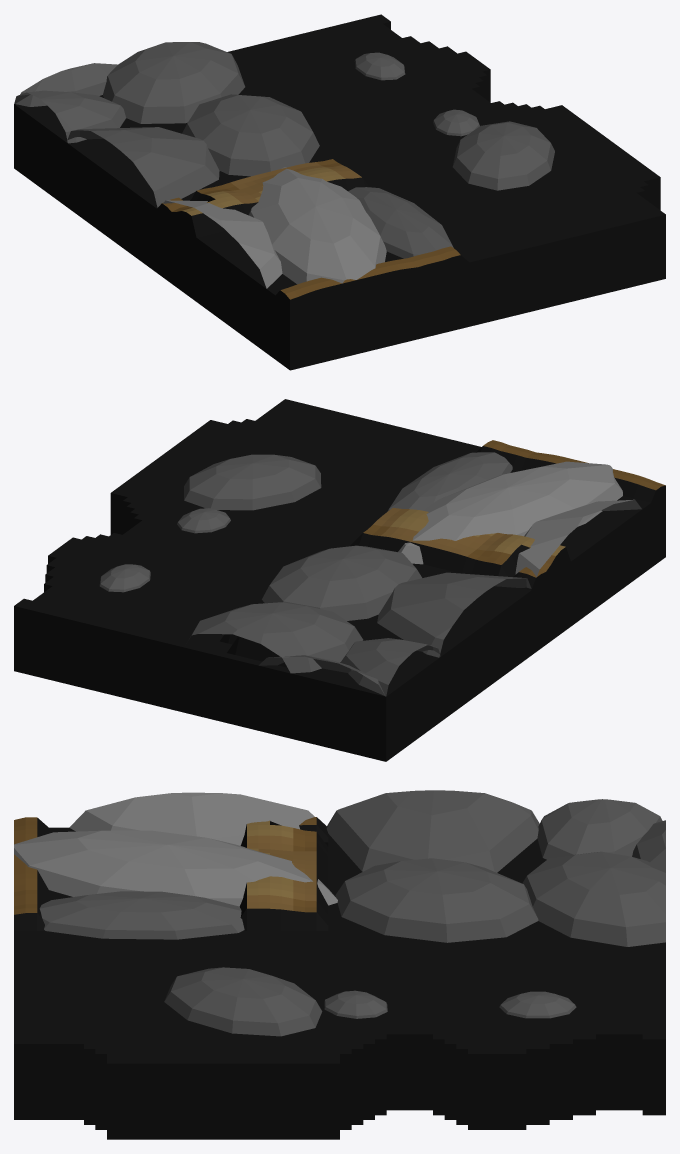
3 views of the same model, one above another, from view 1: azimuth 30°, elevation 25°; view 2: azimuth 150°, elevation 25°; view 3: azimuth 270°, elevation 25° (orthographic). The views are drawn at different scales.
Visible parts, largest first — view 1: shapesz-t188; view 2: shapesz-t188; view 3: shapesz-t188.
Boxes of the visible parts, x1,y1,x2,y2 form: shapesz-t188: (14,14,665,370); shapesz-t188: (14,399,665,761); shapesz-t188: (14,790,665,1139).
Size of the model in its own units: 2 by 0.4488 by 2.33.
